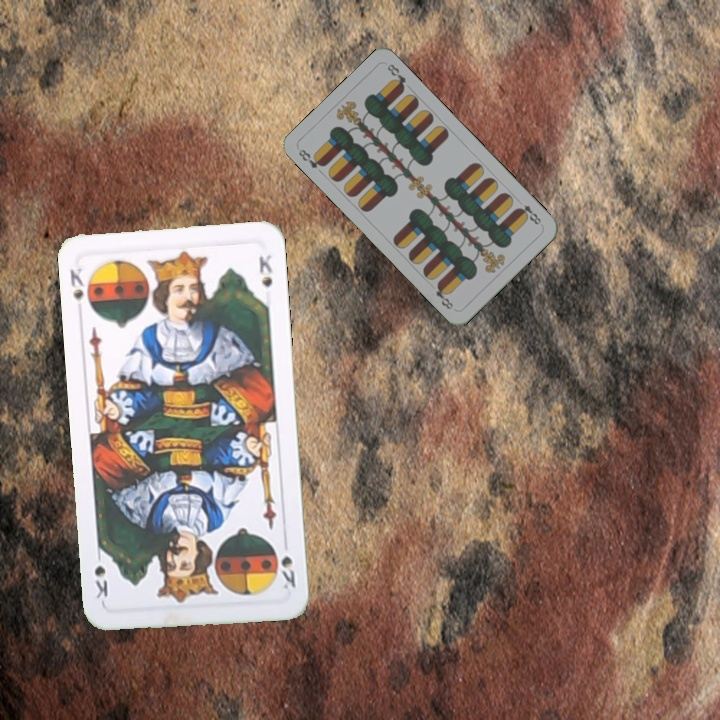E8: (294, 145, 328, 171), (513, 200, 544, 227)
SK: (277, 551, 298, 592), (65, 264, 86, 303)
